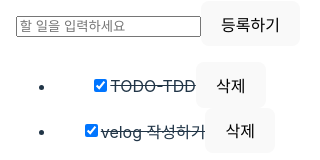
remove todo
Click the button "삭제" next to "TODO-TDD". click: (231, 85)
box: [196,62,266,108]
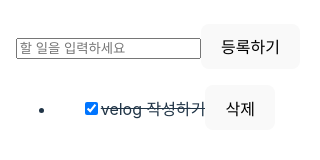
expect the text "TODO-TDD" is gone: met
